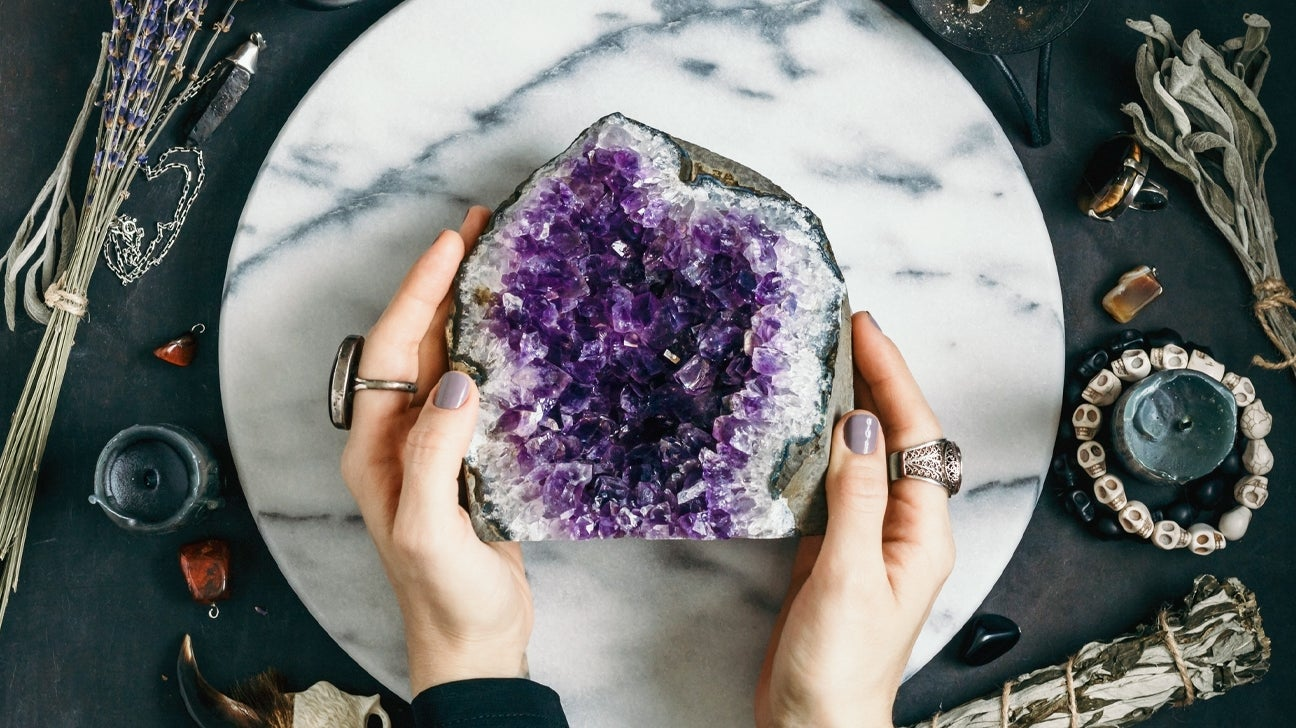Amethyst: (503, 158, 796, 539)
